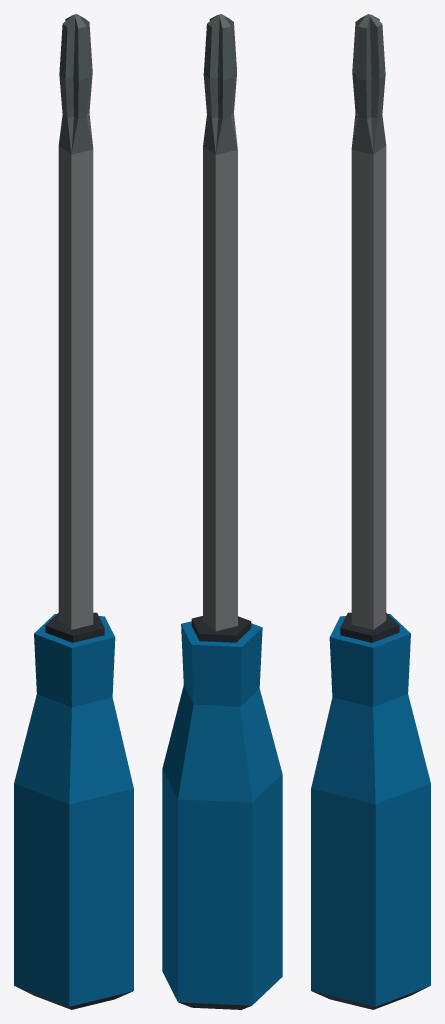
The model's file is SM_Turn-Screw_A.fbx.
The picture shows the model from 3 angles, left to right: view 1: azimuth 30°, elevation 25°; view 2: azimuth 210°, elevation 25°; view 3: azimuth 330°, elevation 25°; orthographic projection.
Parts seen in each view (by area): view 1: SM_Turn-Screw_A; view 2: SM_Turn-Screw_A; view 3: SM_Turn-Screw_A.
Boxes of the visible parts, x1,y1,x2,y2 form: SM_Turn-Screw_A: (14,14,133,1009); SM_Turn-Screw_A: (162,14,282,1009); SM_Turn-Screw_A: (311,14,430,1009).
Bounding box in the file's own units: 5.39 × 48.18 × 5.13.
